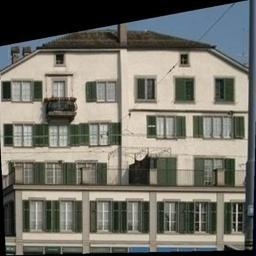building: (0, 37, 256, 256)
